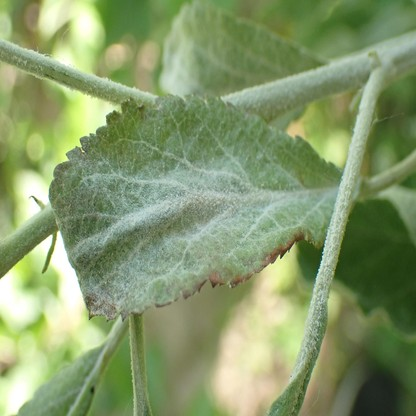powdery_mildew: (49, 89, 359, 321)
